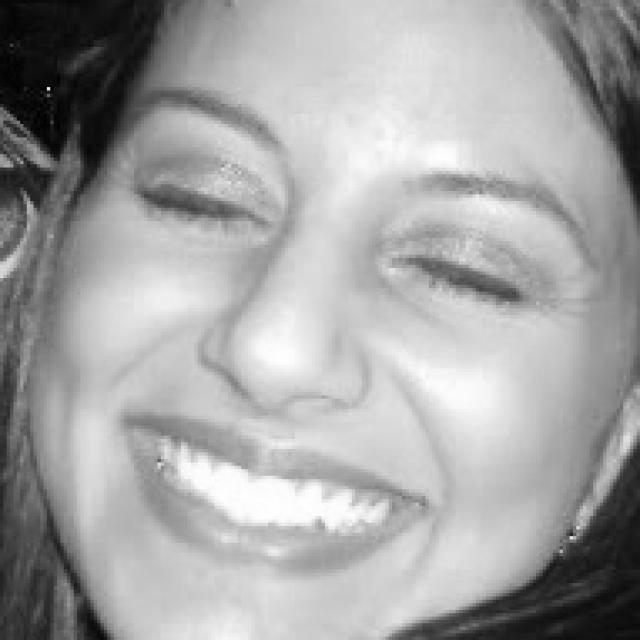real: (32, 83, 614, 622), (115, 139, 558, 327)
